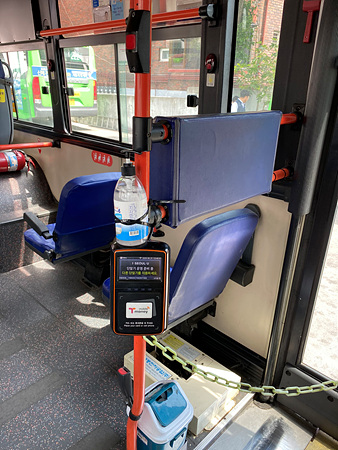terminal: (112, 240, 169, 337)
